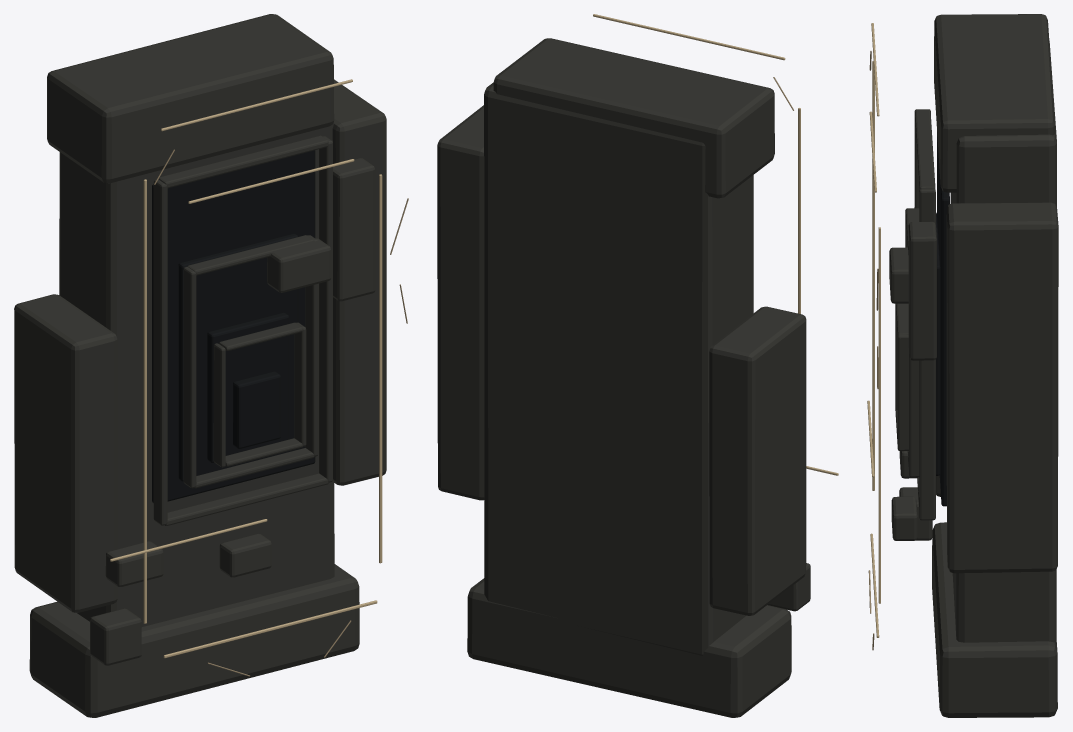
File: monolith-blender.glb
3 views of the same model, side by side, from view 1: azimuth 30°, elevation 25°; view 2: azimuth 150°, elevation 25°; view 3: azimuth 270°, elevation 25° (orthographic). The views are drawn at different scales.
Visible parts, largest first — view 1: monolith_core, top_cap, left_mass, broken_plinth, nested_shadow_0, right_mass, nested_shadow_1, offset_block_2, nested_shadow_2, nested_rim_0, nested_rim_1, nested_shadow_3 (+18 smaller); view 2: monolith_core, left_mass, broken_plinth, top_cap, right_mass, offset_block_1, worn_edge_2; view 3: right_mass, top_cap, monolith_core, broken_plinth, offset_block_2, nested_rim_1, nested_shadow_0, nested_rim_9, nested_rim_2, nested_rim_5, offset_block_4, worn_edge_0 (+7 smaller).
Boxes of the visible parts, x1=… form: monolith_core: x1=59, y1=65, x2=334, y2=626; top_cap: x1=47, y1=14, x2=334, y2=183; left_mass: x1=14, y1=294, x2=117, y2=612; broken_plinth: x1=29, y1=564, x2=359, y2=717; nested_shadow_0: x1=152, y1=150, x2=315, y2=502; right_mass: x1=332, y1=79, x2=386, y2=485; nested_shadow_1: x1=178, y1=233, x2=298, y2=481; offset_block_2: x1=333, y1=158, x2=375, y2=301; nested_shadow_2: x1=207, y1=312, x2=288, y2=462; nested_rim_0: x1=153, y1=179, x2=167, y2=525; nested_rim_1: x1=319, y1=136, x2=332, y2=482; nested_shadow_3: x1=233, y1=371, x2=280, y2=448; monolith_core: x1=484, y1=82, x2=753, y2=655; left_mass: x1=709, y1=306, x2=806, y2=615; broken_plinth: x1=467, y1=578, x2=791, y2=717; top_cap: x1=493, y1=38, x2=774, y2=198; right_mass: x1=437, y1=105, x2=484, y2=500; offset_block_1: x1=768, y1=563, x2=810, y2=611; worn_edge_2: x1=593, y1=14, x2=785, y2=60; right_mass: x1=946, y1=202, x2=1058, y2=573; top_cap: x1=934, y1=14, x2=1054, y2=192; monolith_core: x1=950, y1=41, x2=1056, y2=644; broken_plinth: x1=932, y1=522, x2=1057, y2=717; offset_block_2: x1=908, y1=221, x2=936, y2=360; nested_rim_1: x1=919, y1=189, x2=935, y2=520; nested_shadow_0: x1=937, y1=132, x2=949, y2=506; nested_rim_9: x1=897, y1=334, x2=908, y2=450; nested_rim_2: x1=915, y1=109, x2=935, y2=189; nested_rim_5: x1=909, y1=354, x2=919, y2=477; offset_block_4: x1=891, y1=496, x2=917, y2=540; worn_edge_0: x1=872, y1=61, x2=874, y2=490.
Bounding box in the file's own units: 1.47 × 2.63 × 0.7749.
